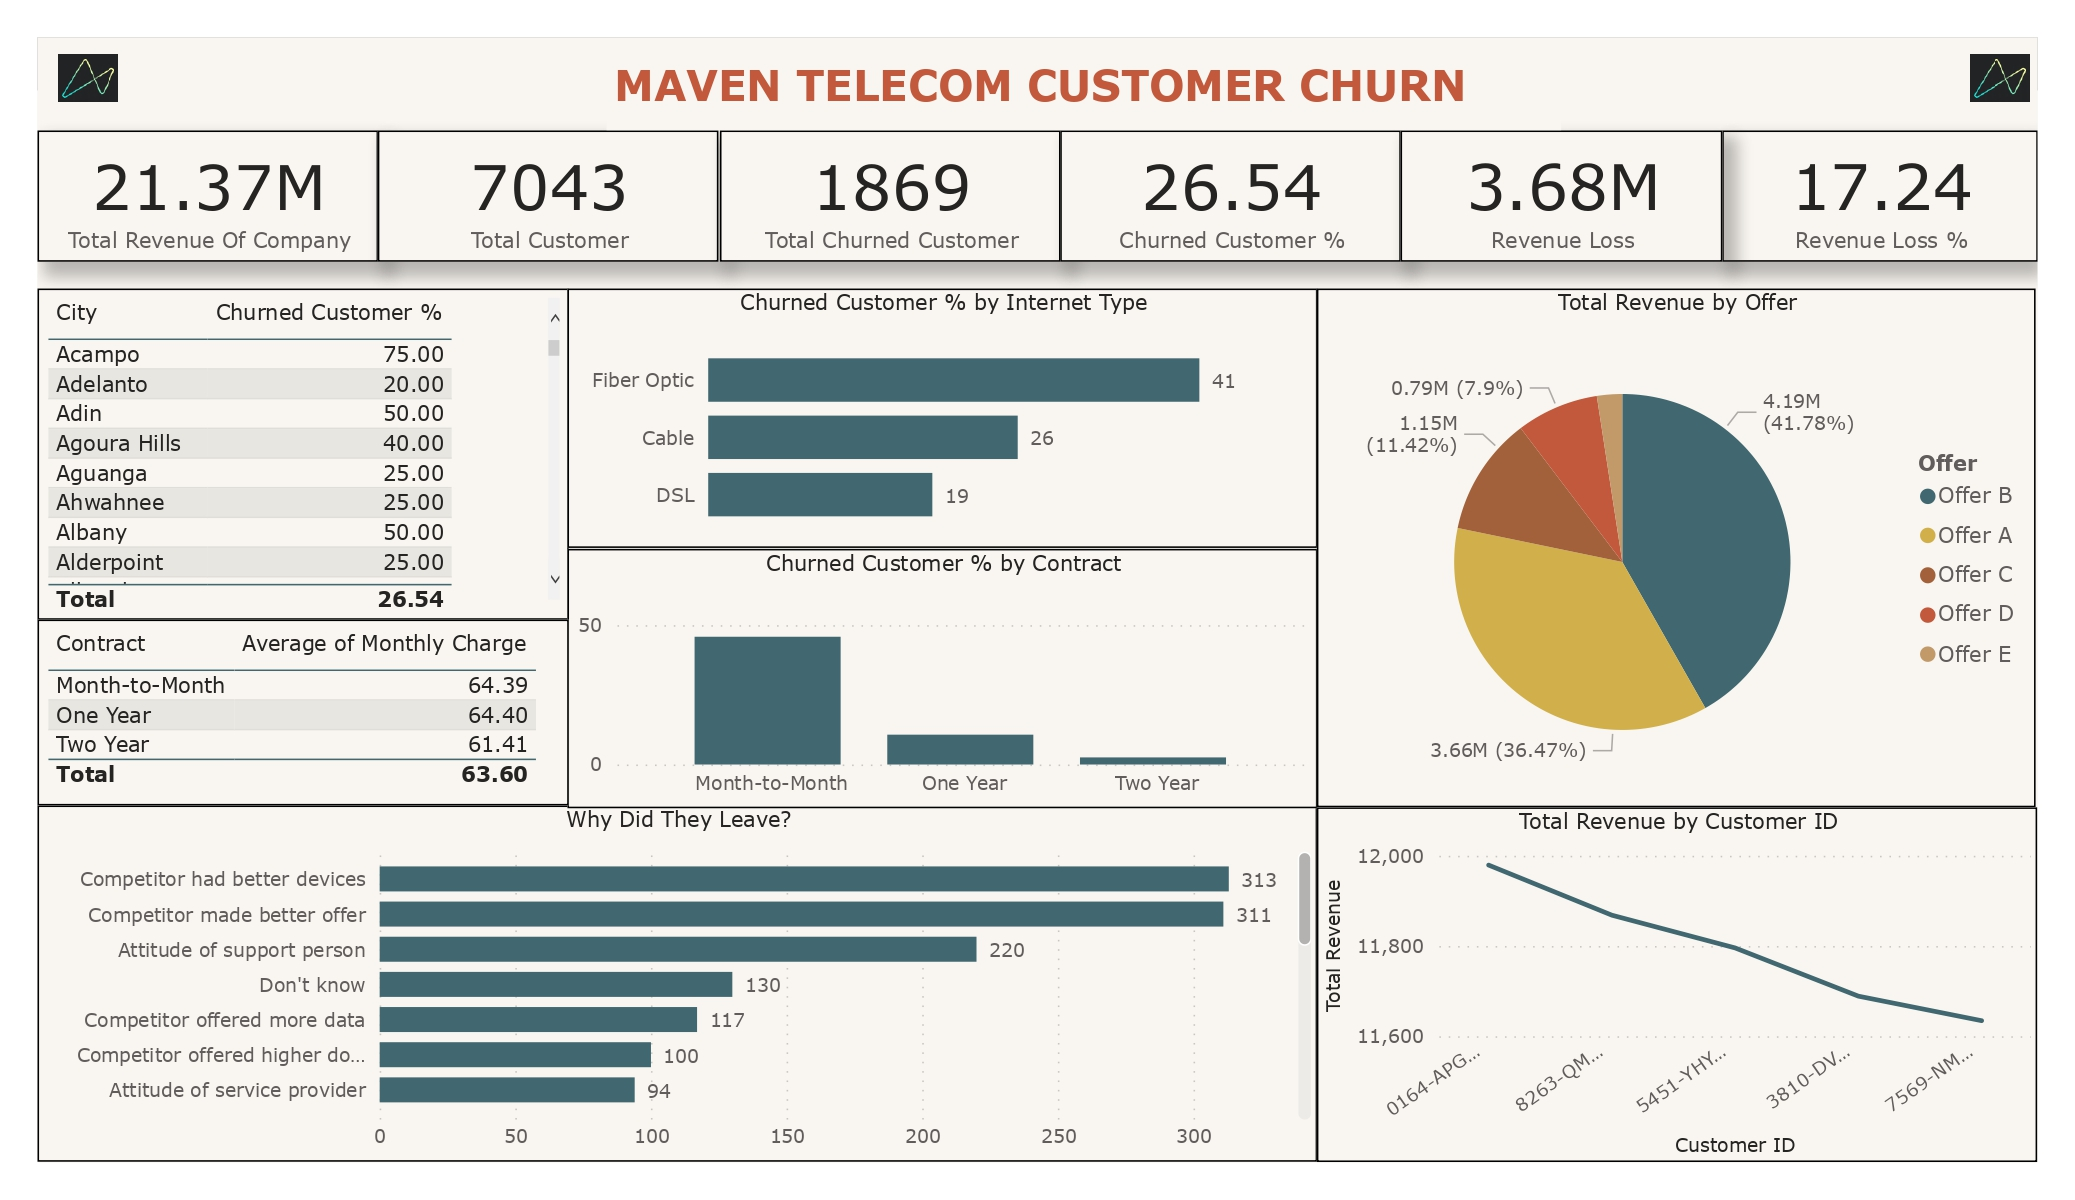

This screenshot's page, from the dashboard's own definition file:
{"tool":"powerbi","page":{"name":"Page 1","canvas":[1280,720],"ordinal":0},"visuals":[{"type":"card","fields":{"Values":["telecom_customer_churn.Total Revenue Of Company"]},"box":[0,59.5,218.1,84.3],"z":0},{"type":"card","fields":{"Values":["telecom_customer_churn.Total Customer"]},"box":[218.1,59.5,218.1,84.3],"z":1000},{"type":"card","fields":{"Values":["telecom_customer_churn.Total Churned Customer"]},"box":[436.2,59.5,218.1,84.3],"z":2000},{"type":"clusteredBarChart","title":"Why Did They Leave?","fields":{"Category":["telecom_customer_churn.Churn Reason"],"Y":["CountNonNull(telecom_customer_churn.Churn Reason)"]},"box":[0,491.9,819.1,228],"z":3000},{"type":"card","fields":{"Values":["telecom_customer_churn.Revenue Loss %"]},"box":[1078,59.5,202,84.3],"z":5000},{"type":"card","fields":{"Values":["telecom_customer_churn.Churned Customer %"]},"box":[654.2,59.5,218.1,84.3],"z":6000},{"type":"tableEx","title":"Cities With Most Customer Churned","fields":{"Values":["telecom_customer_churn.City","telecom_customer_churn.Churned Customer %"]},"box":[0,161.1,339.5,211.9],"z":7000},{"type":"card","fields":{"Values":["telecom_customer_churn.Revenue Loss"]},"box":[872.3,59.5,205.7,84.3],"z":8000},{"type":"columnChart","fields":{"Category":["telecom_customer_churn.Contract"],"Y":["telecom_customer_churn.Churned Customer %"]},"box":[339.5,327.1,479.5,166],"z":9000},{"type":"barChart","fields":{"Category":["telecom_customer_churn.Internet Type"],"Y":["telecom_customer_churn.Churned Customer %"]},"box":[339.5,161.1,479.5,166],"z":10000},{"type":"lineChart","fields":{"Category":["telecom_customer_churn.Customer ID"],"Y":["Sum(telecom_customer_churn.Total Revenue)"]},"box":[819.1,493.2,460.9,226.8],"z":11000},{"type":"textbox","box":[364.2,8.3,610.5,51.2],"z":12000},{"type":"image","box":[8.3,0,47.6,51.2],"z":13000},{"type":"image","box":[1231.7,0,47.6,51.2],"z":13001},{"type":"tableEx","fields":{"Values":["telecom_customer_churn.Contract","Avg(telecom_customer_churn.Monthly Charge)"]},"box":[0,373,339.5,119],"z":13002},{"type":"pieChart","fields":{"Y":["Sum(telecom_customer_churn.Total Revenue)"],"Category":["telecom_customer_churn.Offer"]},"box":[819.1,161.1,459.7,332.1],"z":13003}]}

Visuals, with their boxes in screenshot pixels (x1, y1, x2, y2):
card - telecom_customer_churn.Total Revenue Of Company: box=[38, 130, 378, 262]
card - telecom_customer_churn.Total Customer: box=[378, 130, 719, 262]
card - telecom_customer_churn.Total Churned Customer: box=[719, 130, 1060, 262]
"Why Did They Leave?" clusteredBarChart: box=[38, 806, 1317, 1162]
card - telecom_customer_churn.Revenue Loss %: box=[1722, 130, 2038, 262]
card - telecom_customer_churn.Churned Customer %: box=[1060, 130, 1400, 262]
"Cities With Most Customer Churned" tableEx: box=[38, 289, 568, 620]
card - telecom_customer_churn.Revenue Loss: box=[1400, 130, 1722, 262]
columnChart - telecom_customer_churn.Contract x telecom_customer_churn.Churned Customer %: box=[568, 549, 1317, 808]
barChart - telecom_customer_churn.Internet Type x telecom_customer_churn.Churned Customer %: box=[568, 289, 1317, 549]
lineChart - telecom_customer_churn.Customer ID x Sum(telecom_customer_churn.Total Revenue): box=[1317, 808, 2038, 1162]
textbox: box=[607, 50, 1560, 130]
image: box=[50, 38, 125, 118]
image: box=[1962, 38, 2036, 118]
tableEx - telecom_customer_churn.Contract x Avg(telecom_customer_churn.Monthly Charge): box=[38, 620, 568, 806]
pieChart - Sum(telecom_customer_churn.Total Revenue) x telecom_customer_churn.Offer: box=[1317, 289, 2036, 808]
